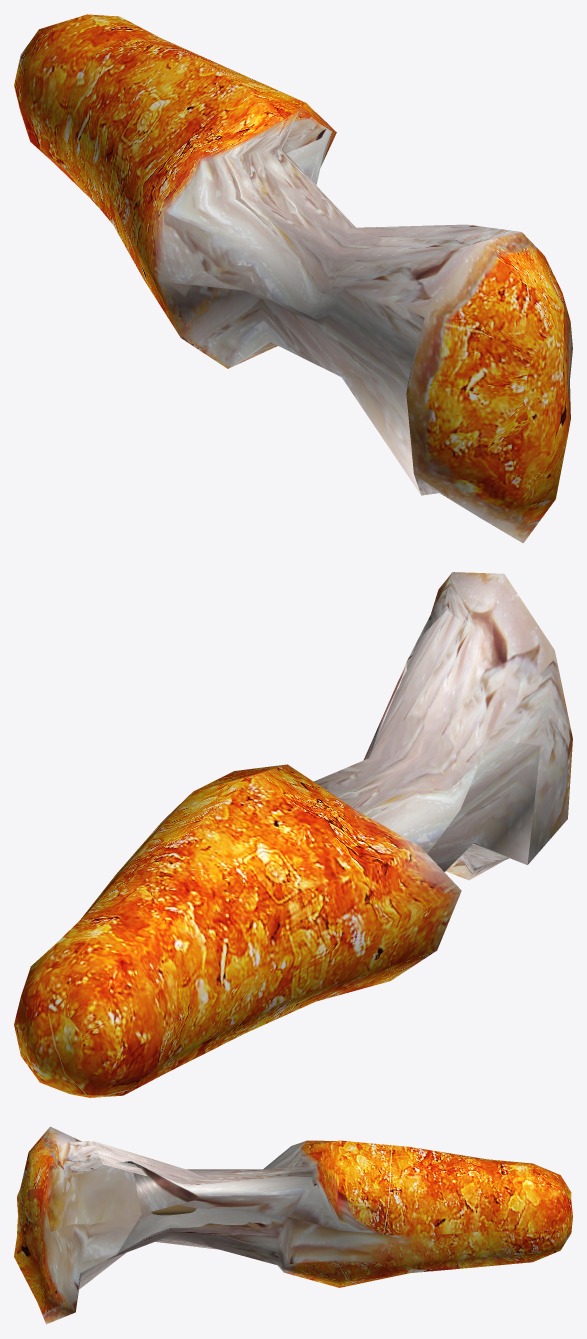
Rendered from FriedChicken_eat02.FBX.
3 renders of one model, top to bottom at view 1: azimuth 30°, elevation 25°; view 2: azimuth 150°, elevation 25°; view 3: azimuth 270°, elevation 25°, orthographic. The views are drawn at different scales.
Visible parts, largest first — view 1: Chicken_Fried02; view 2: Chicken_Fried02; view 3: Chicken_Fried02, Chicken_Fried02bone.
Boxes of the visible parts, bbox=[...] form: Chicken_Fried02: bbox=[14, 14, 572, 543]; Chicken_Fried02: bbox=[14, 572, 572, 1097]; Chicken_Fried02: bbox=[14, 1126, 572, 1324]; Chicken_Fried02bone: bbox=[151, 1204, 196, 1215].
Size of the model in its own units: 10.04 by 34.27 by 12.65.
2 materials, 1 textured.
